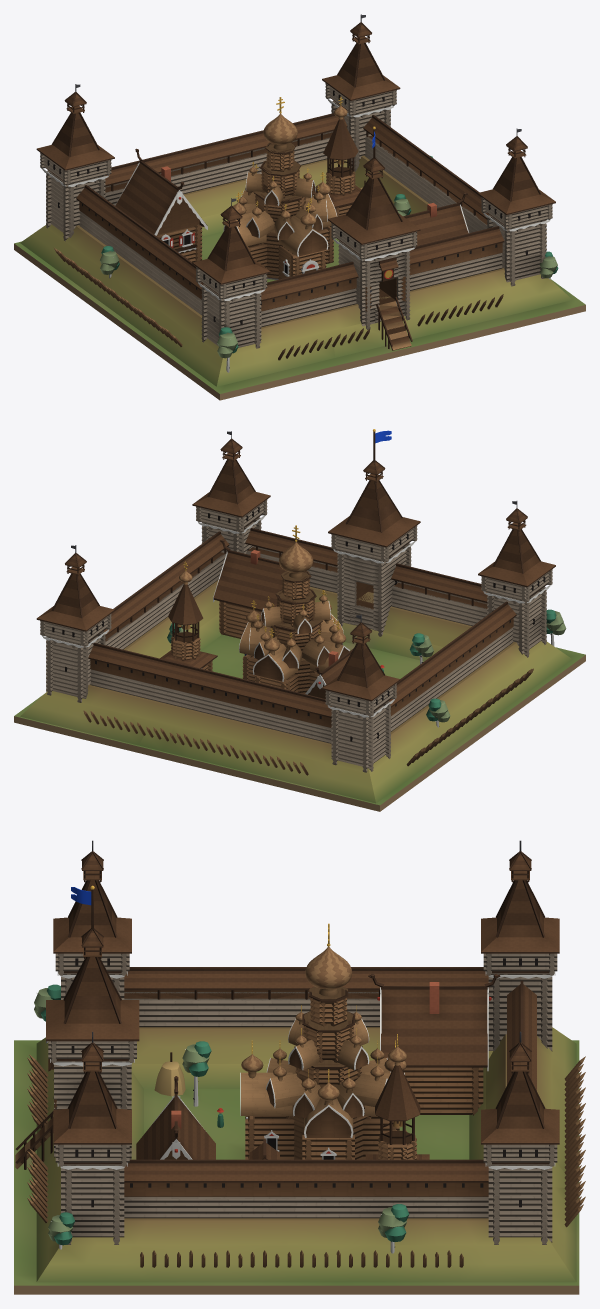
Rendered from lm_ahsapkremlin.glb.
The picture shows the model from 3 angles, top to bottom: view 1: azimuth 30°, elevation 25°; view 2: azimuth 150°, elevation 25°; view 3: azimuth 270°, elevation 25°; orthographic projection. The views are drawn at different scales.
Visible parts, largest first — view 1: lm_ahsapkremlin; view 2: lm_ahsapkremlin; view 3: lm_ahsapkremlin.
Boxes of the visible parts, x1=… form: lm_ahsapkremlin: x1=14, y1=14, x2=585, y2=400; lm_ahsapkremlin: x1=14, y1=429, x2=585, y2=811; lm_ahsapkremlin: x1=14, y1=840, x2=585, y2=1294.
Size of the model in its own units: 2.37 by 1.28 by 2.33.
1 material, 1 textured.
